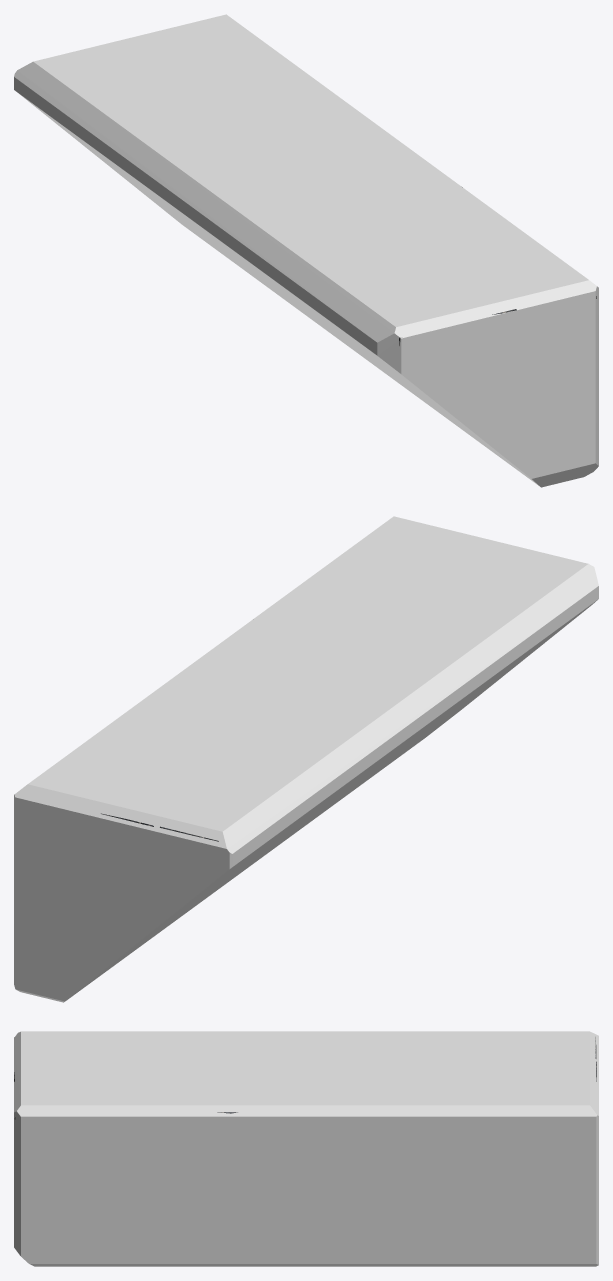
File: SM_wood_balkony_02.fbx
3 views of the same model, one above another, from view 1: azimuth 30°, elevation 25°; view 2: azimuth 150°, elevation 25°; view 3: azimuth 270°, elevation 25° (orthographic). The views are drawn at different scales.
Visible parts, largest first — view 1: SM_wood_balkony_02_ConvexHulls; view 2: SM_wood_balkony_02_ConvexHulls; view 3: SM_wood_balkony_02_ConvexHulls.
Boxes of the visible parts, x1,y1,x2,y2 form: SM_wood_balkony_02_ConvexHulls: (14,14,598,487); SM_wood_balkony_02_ConvexHulls: (14,516,598,1002); SM_wood_balkony_02_ConvexHulls: (14,1031,598,1266).
Bounding box in the file's own units: 135 × 400 × 121.
